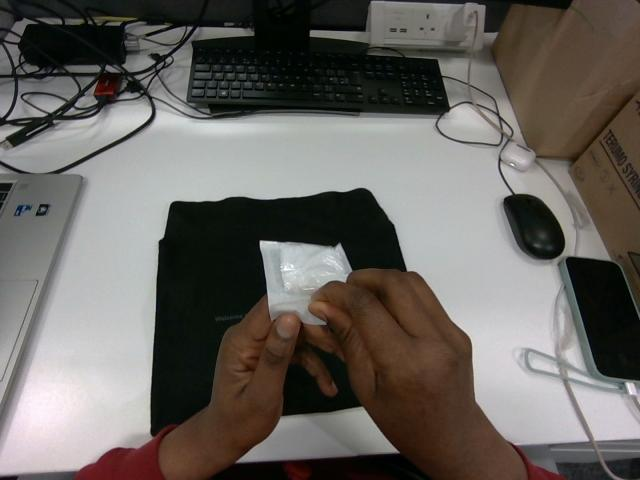gauze: (260, 241, 351, 324)
